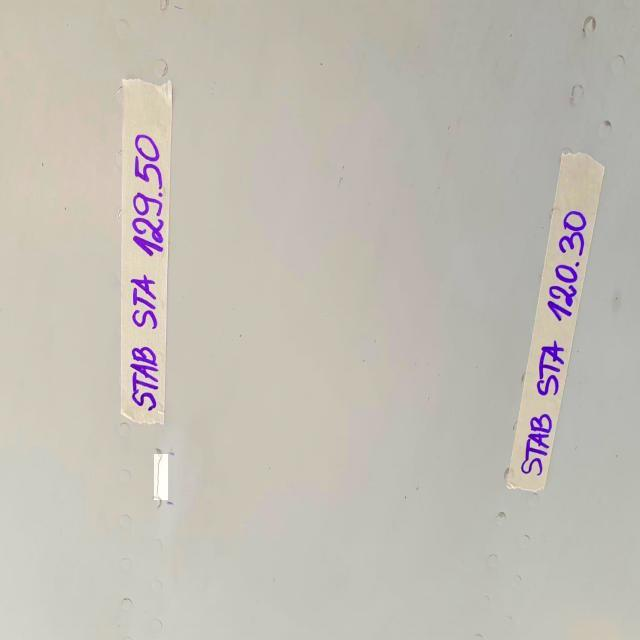crack: (155, 455, 170, 501)
